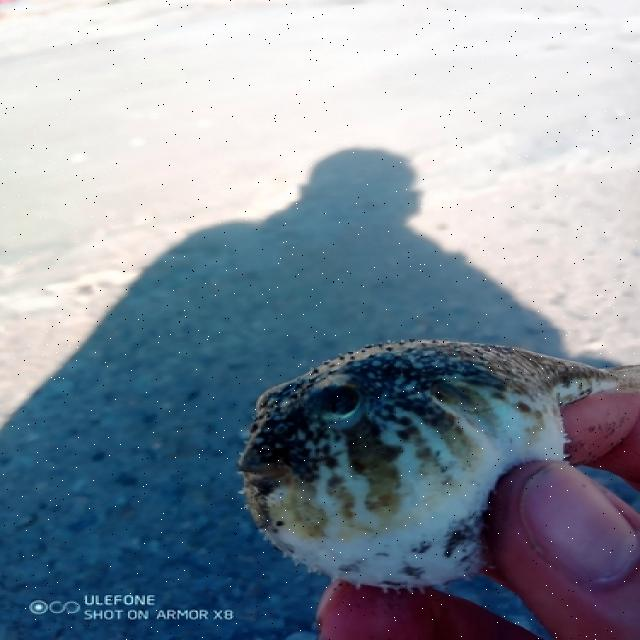Balik: (239, 341, 639, 587)
